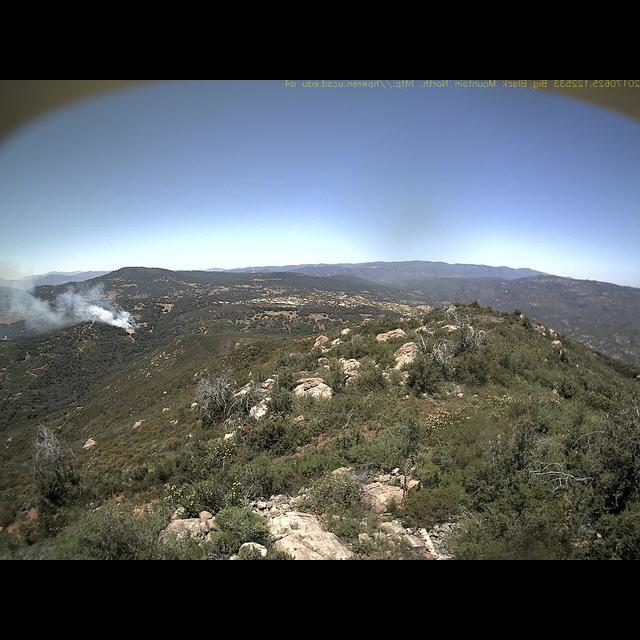Smoke: (3, 257, 140, 337)
